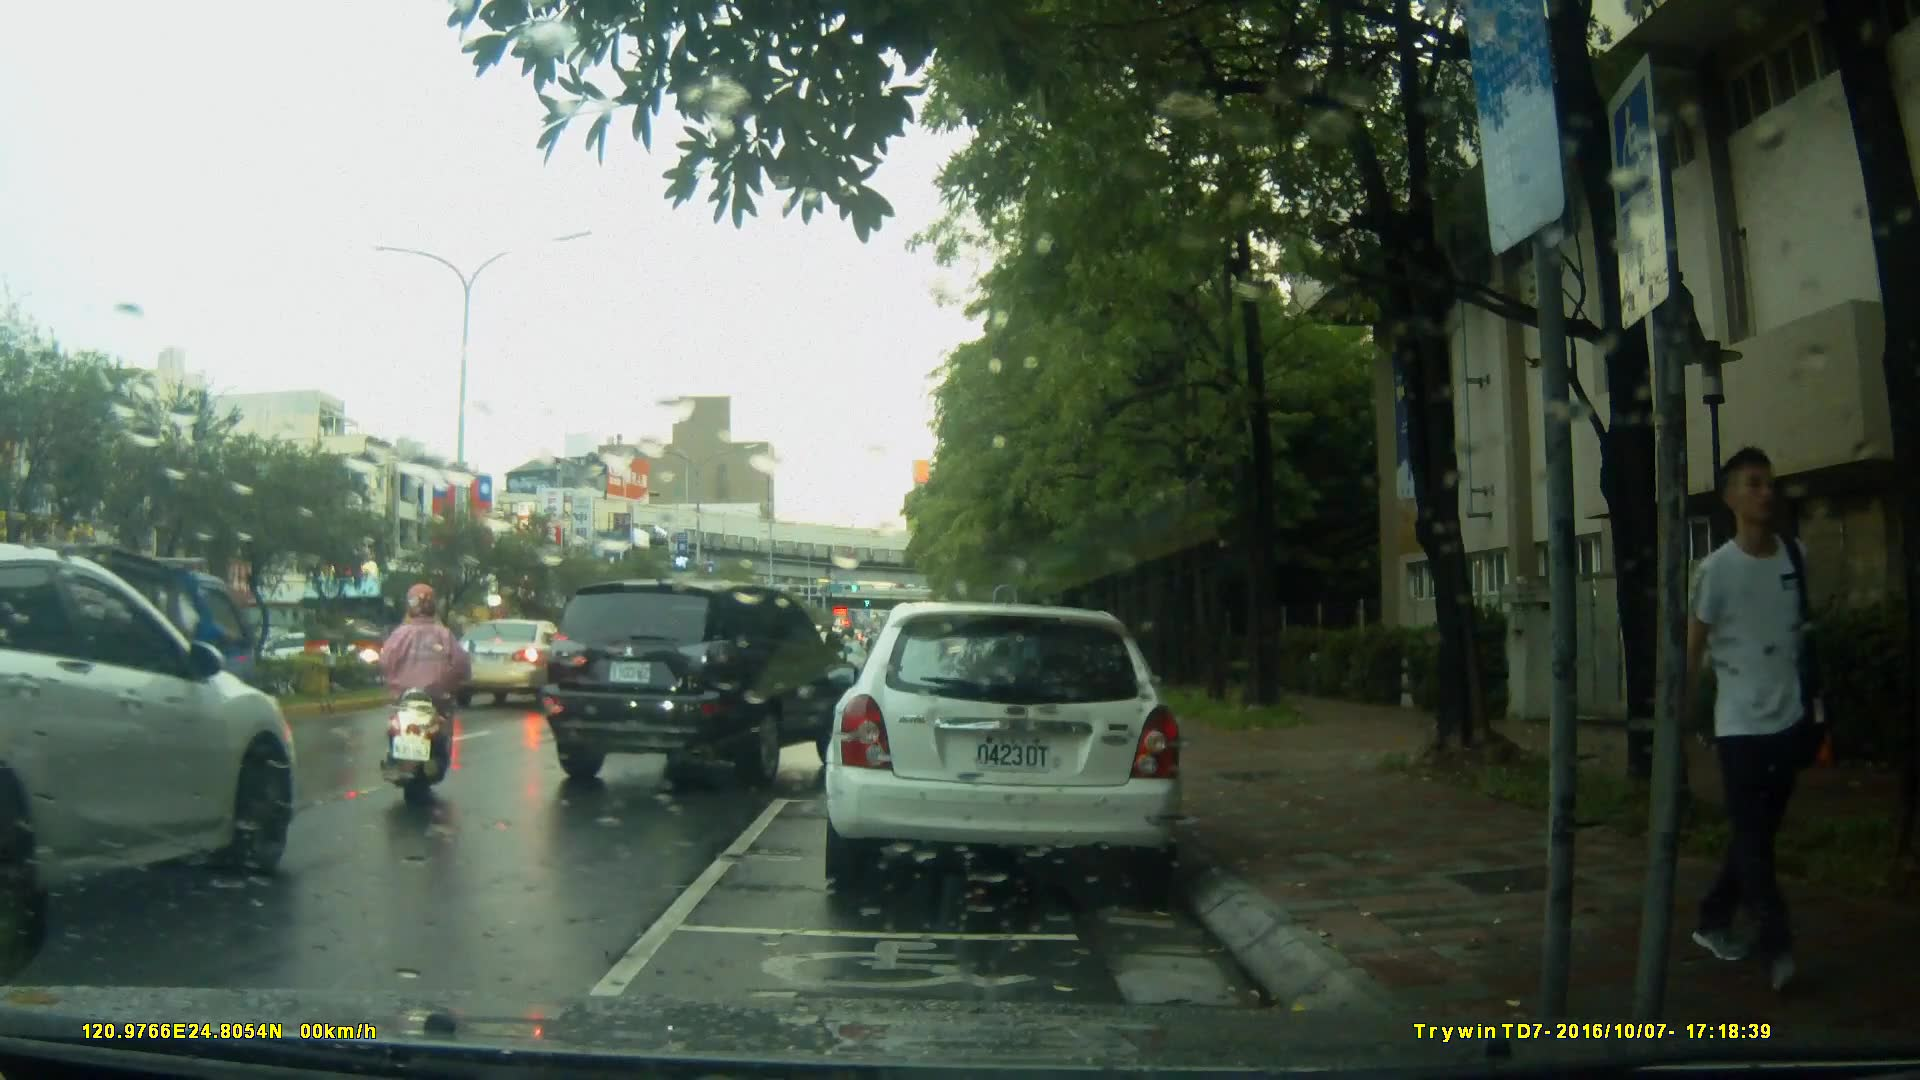pedestrian: (1692, 428, 1833, 994)
rider: (388, 582, 471, 798), (824, 626, 870, 716)
vehicle: (2, 538, 301, 960), (820, 602, 1188, 898), (538, 575, 857, 783), (446, 618, 575, 709)
